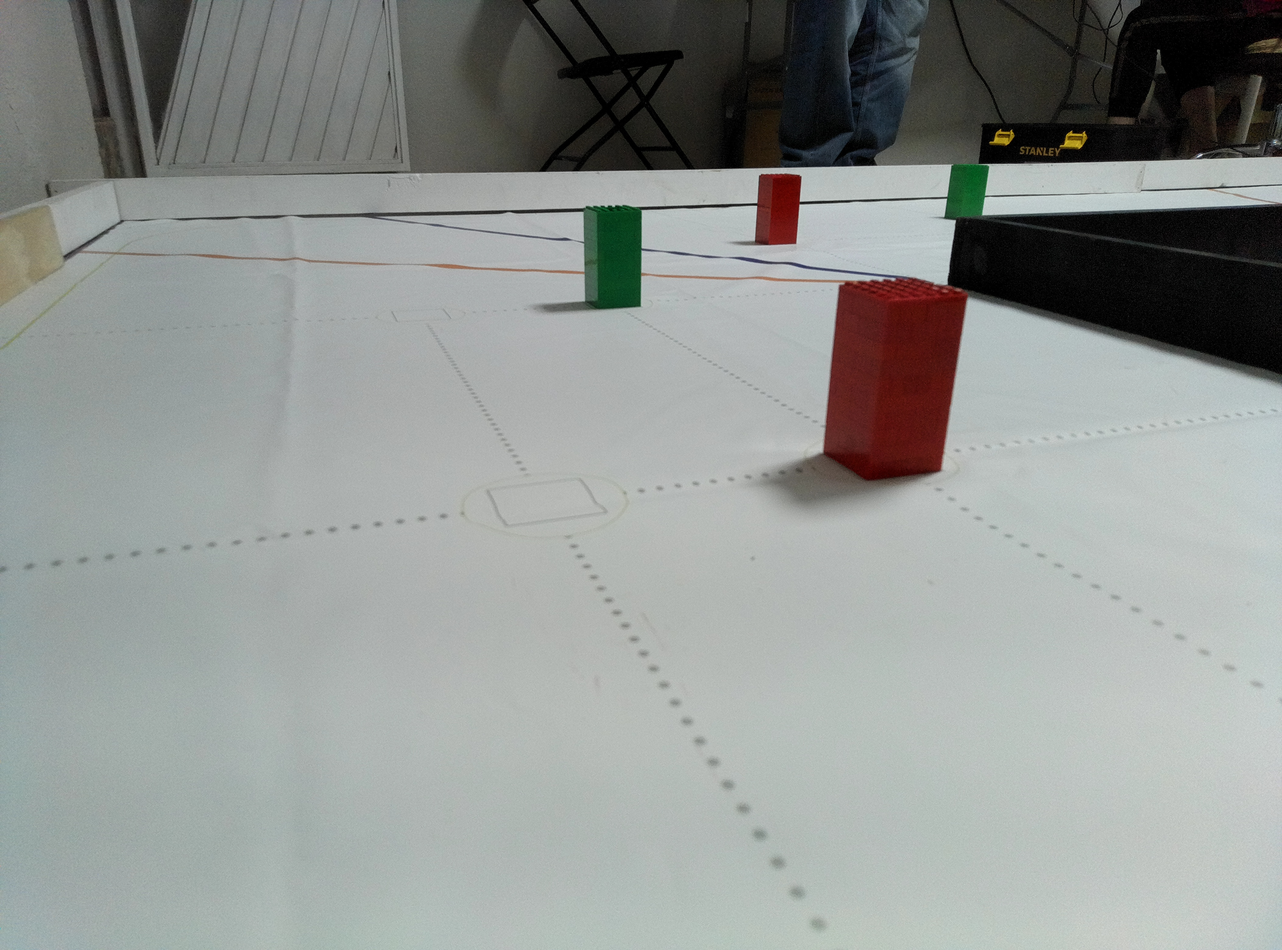greenbox: (581, 204, 644, 311), (941, 163, 989, 222)
redbox: (820, 276, 972, 482), (754, 173, 802, 247)
